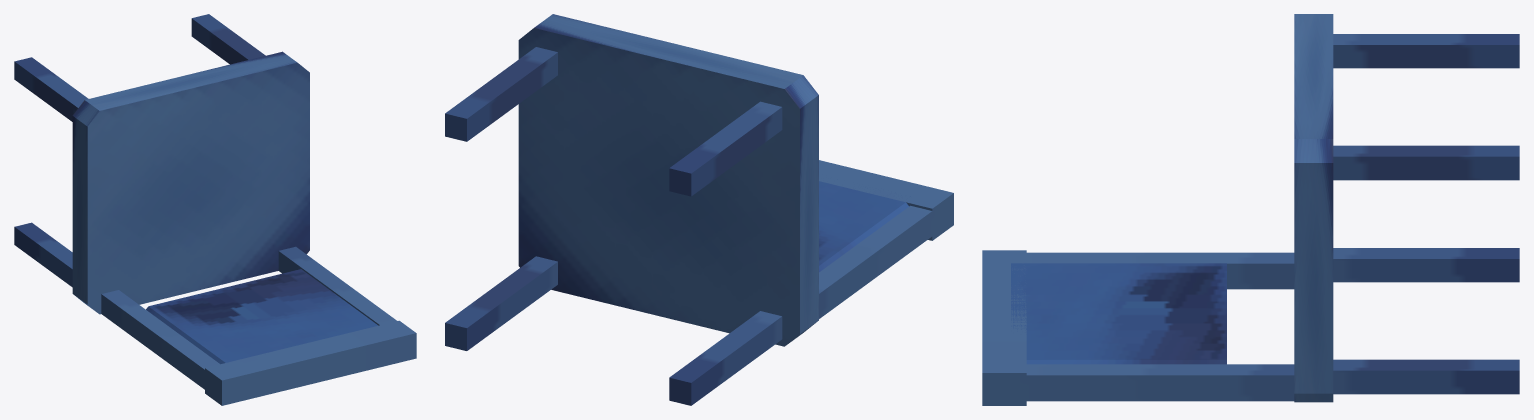
Rendered from pz_chair_seating_indoor_02_blue_plastic.obj.
The picture shows the model from 3 angles, left to right: view 1: azimuth 30°, elevation 25°; view 2: azimuth 150°, elevation 25°; view 3: azimuth 270°, elevation 25°; orthographic projection. The views are drawn at different scales.
Bounding box in the file's own units: 0.64 × 0.575 × 1.03.
Materials: 1 (1 with a texture image).
